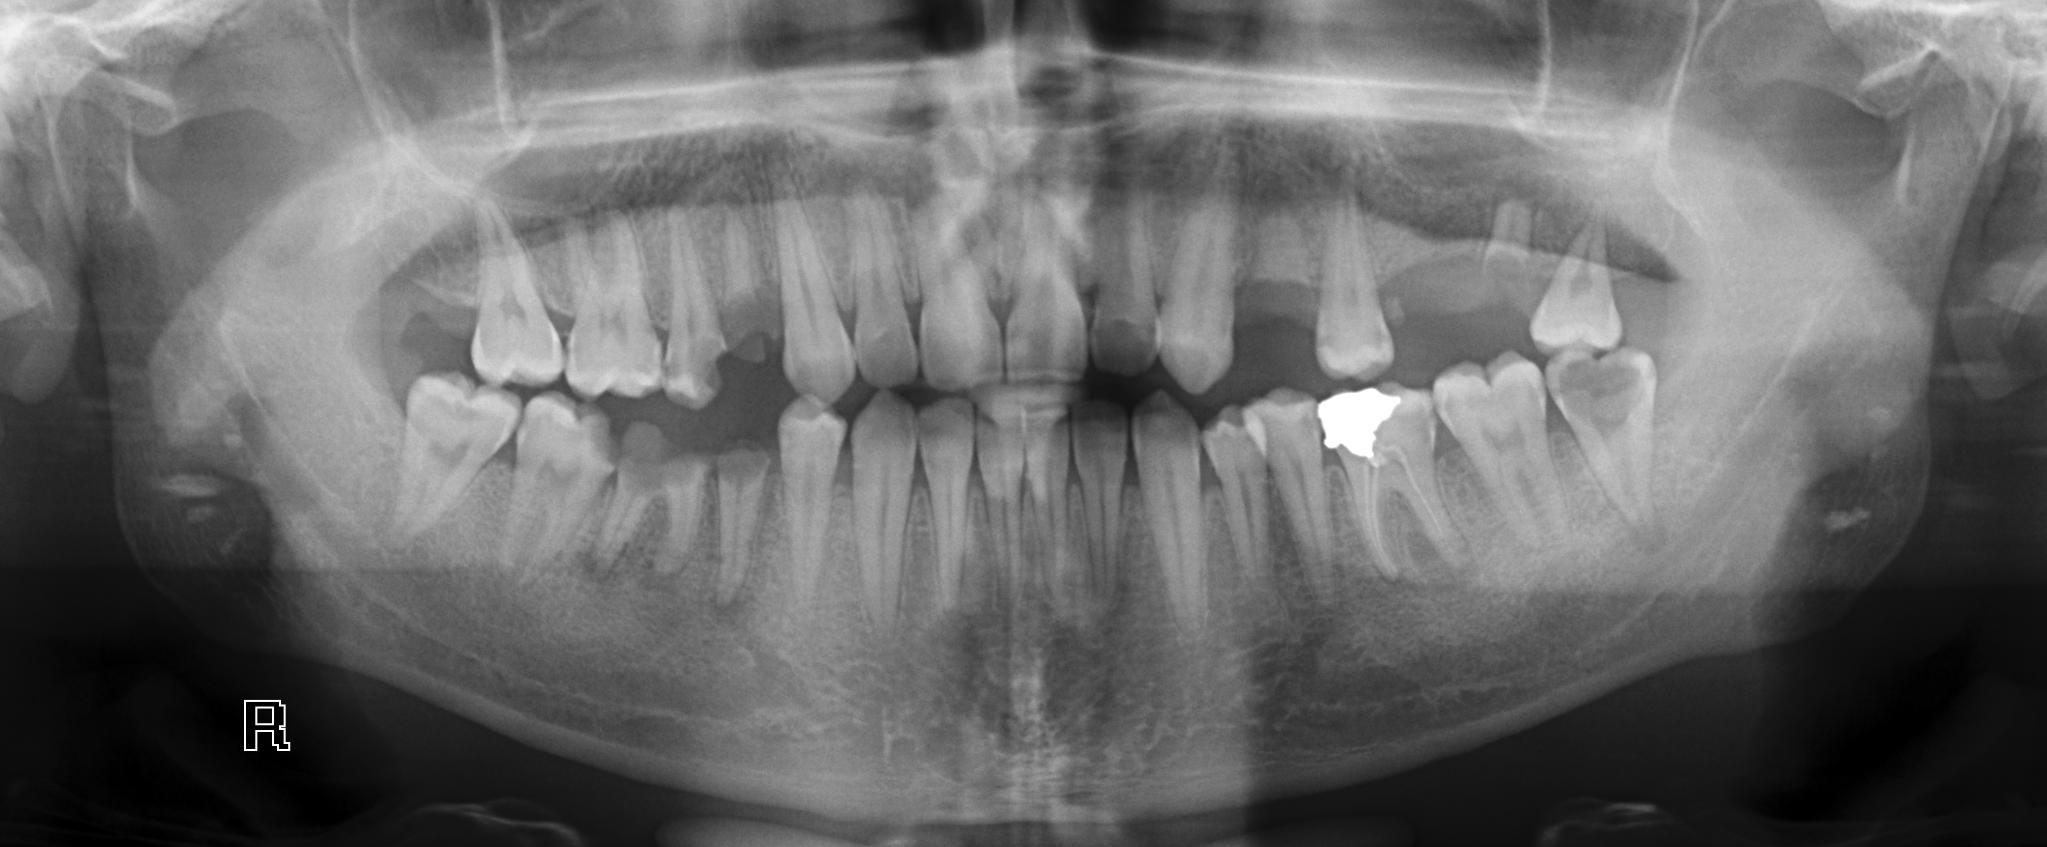Cavity: (592, 407, 714, 579), (720, 225, 781, 397)
Fillings: (1321, 382, 1458, 579)
